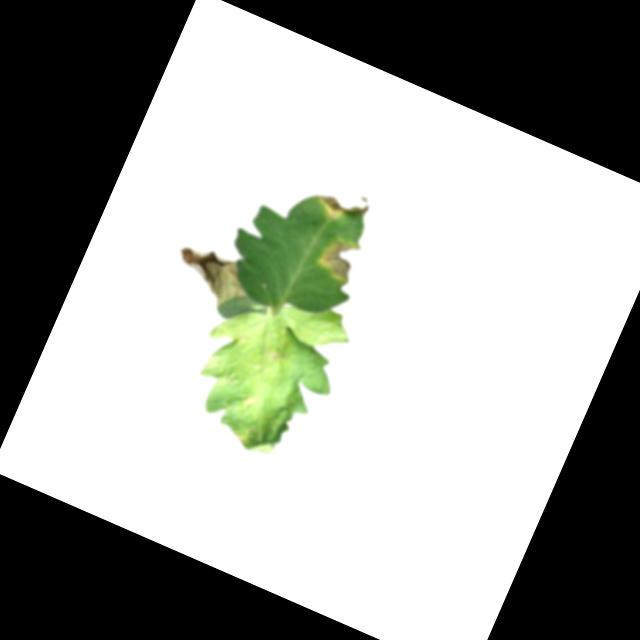Late_blight: (163, 234, 259, 317), (311, 231, 365, 287), (312, 180, 371, 230), (263, 341, 294, 370), (232, 420, 261, 450), (236, 390, 261, 417)
